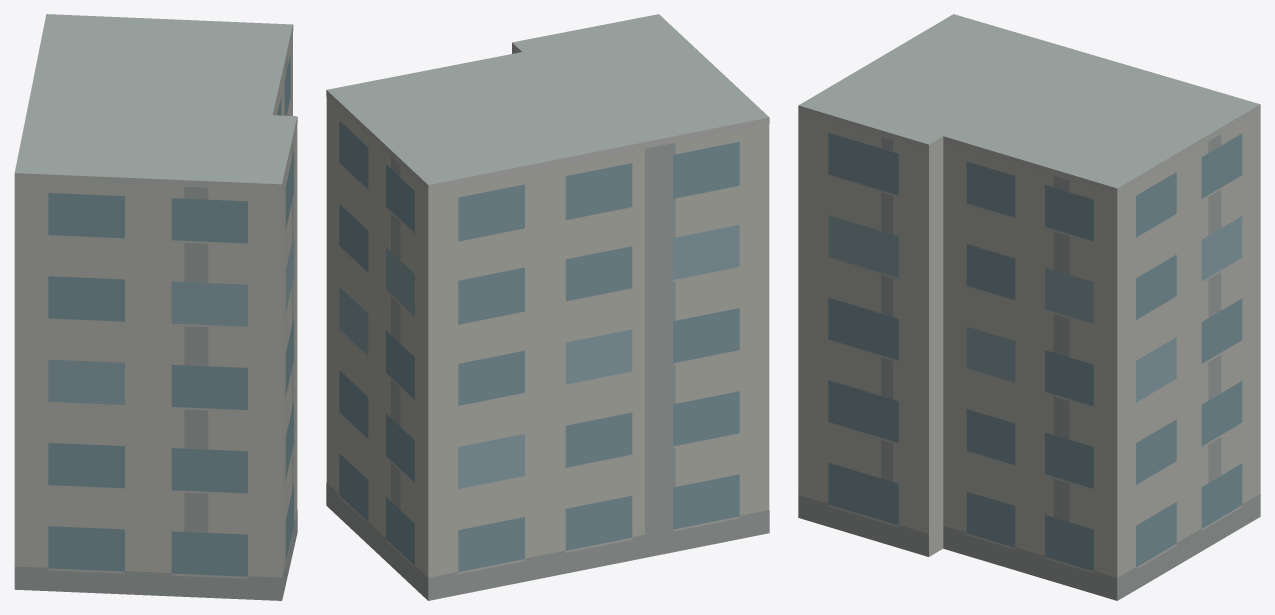
The model's file is residential-1ea11e6e-00ec-4d3c-835f-fc58eeabddc5.glb.
3 renders of one model, left to right at view 1: azimuth 30°, elevation 25°; view 2: azimuth 150°, elevation 25°; view 3: azimuth 270°, elevation 25°, orthographic.
Visible parts, largest first — view 1: residential-1ea11e6e-00ec-4d3c-835f-fc58eeabddc5.tmp; view 2: residential-1ea11e6e-00ec-4d3c-835f-fc58eeabddc5.tmp; view 3: residential-1ea11e6e-00ec-4d3c-835f-fc58eeabddc5.tmp.
Part boxes in pixels (x1,y1,x2,y2): residential-1ea11e6e-00ec-4d3c-835f-fc58eeabddc5.tmp: [14, 14, 297, 600]; residential-1ea11e6e-00ec-4d3c-835f-fc58eeabddc5.tmp: [326, 14, 769, 600]; residential-1ea11e6e-00ec-4d3c-835f-fc58eeabddc5.tmp: [798, 14, 1260, 600].
Bounding box in the file's own units: 13.84 × 15.25 × 15.49.
